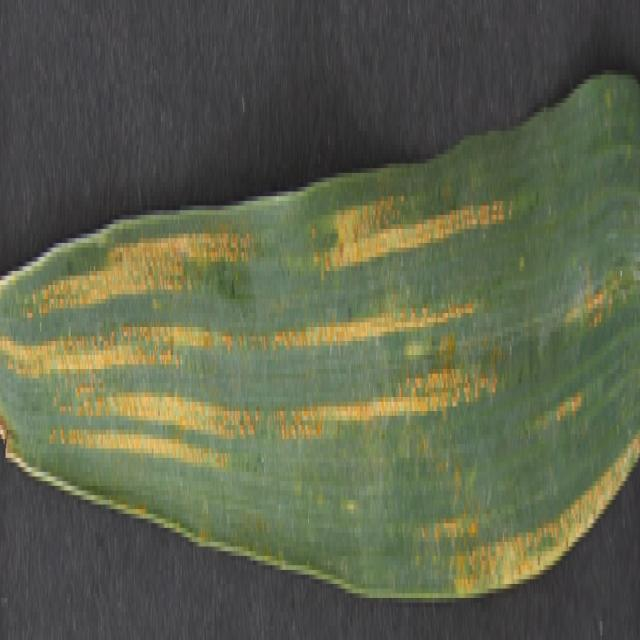leaf rust: (1, 201, 635, 579)
